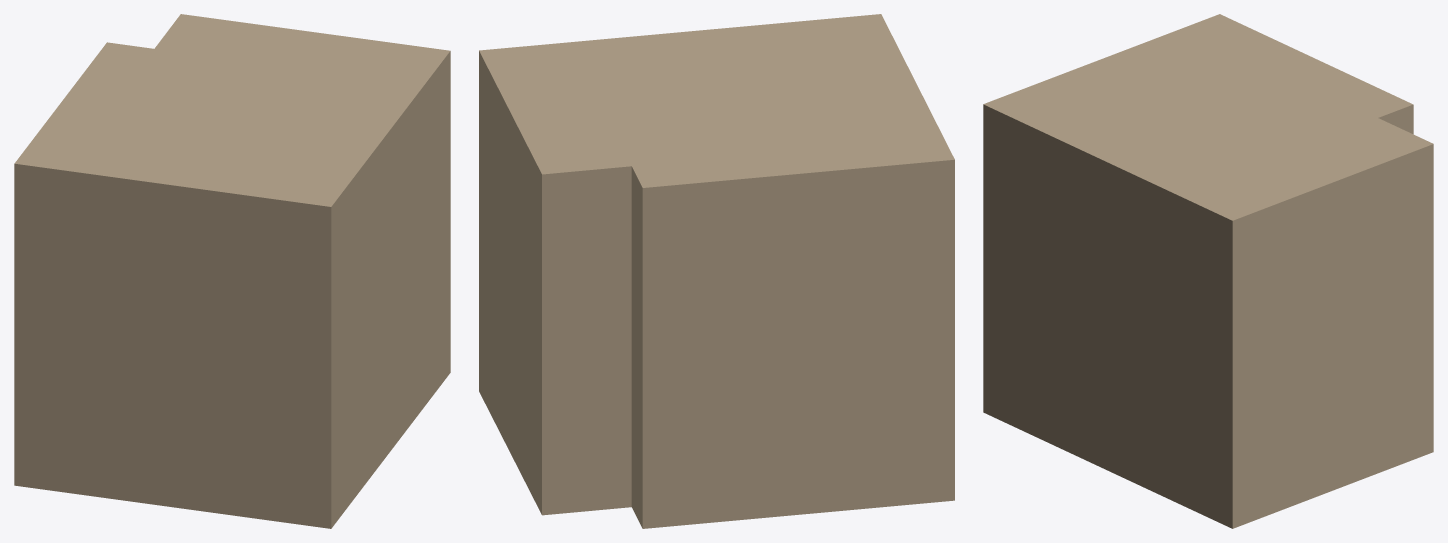
Rendered from bld_101979821.dae.
3 views of the same model, side by side, from view 1: azimuth 30°, elevation 25°; view 2: azimuth 150°, elevation 25°; view 3: azimuth 270°, elevation 25° (orthographic). The views are drawn at different scales.
Visible parts, largest first — view 1: bld_101979821; view 2: bld_101979821; view 3: bld_101979821.
Part boxes in pixels (<box>): bld_101979821: <box>14,14,450,528</box>; bld_101979821: <box>479,14,954,528</box>; bld_101979821: <box>983,14,1433,528</box>.
Size of the model in its own units: 11.52 by 10.6 by 8.
